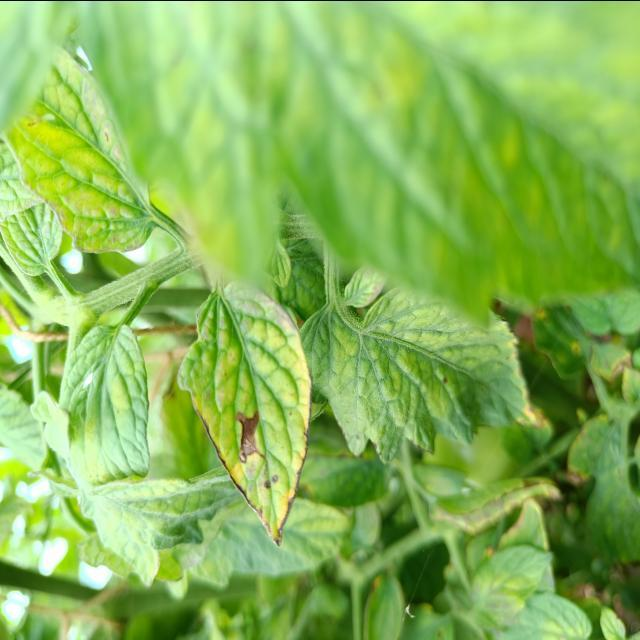Tomato mosaic virus leaf: (191, 363, 315, 552)
